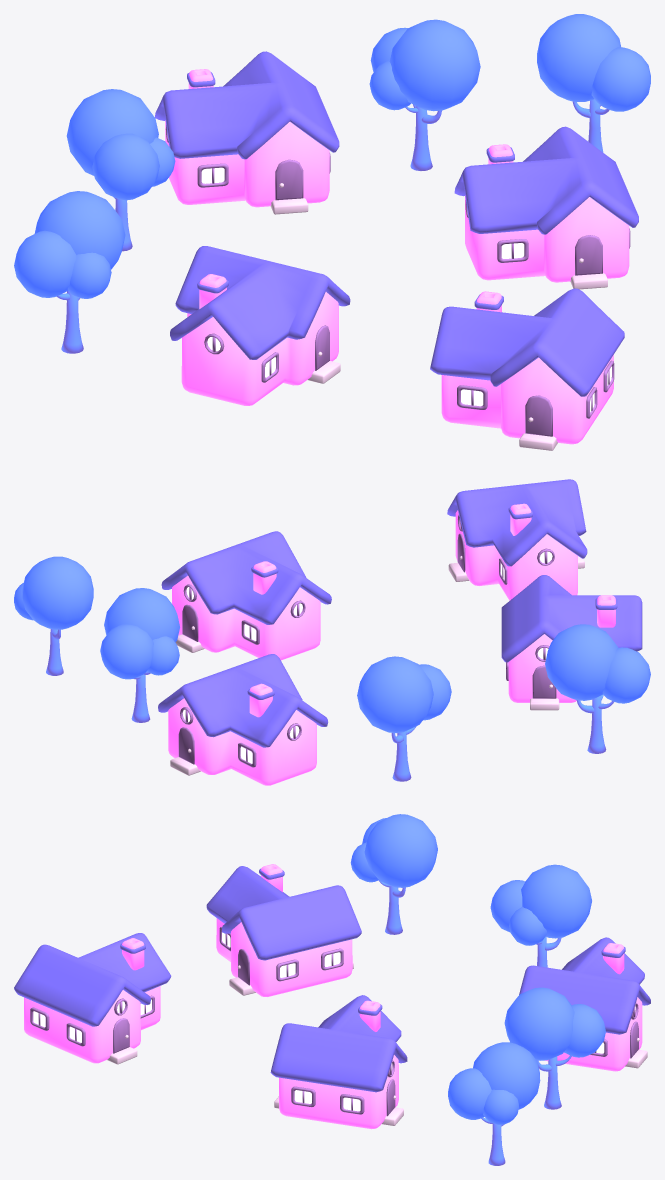
File: Community.gltf
The picture shows the model from 3 angles, top to bottom: view 1: azimuth 30°, elevation 25°; view 2: azimuth 150°, elevation 25°; view 3: azimuth 270°, elevation 25°; orthographic projection. The views are drawn at different scales.
Visible parts, largest first — view 1: tree04; view 2: tree04; view 3: tree04.
Part boxes in pixels (x1,y1,x2,y2): tree04: (14, 14, 650, 450); tree04: (14, 479, 650, 785); tree04: (14, 814, 650, 1165).
Bounding box in the file's own units: 21 × 4.38 × 21.03.
